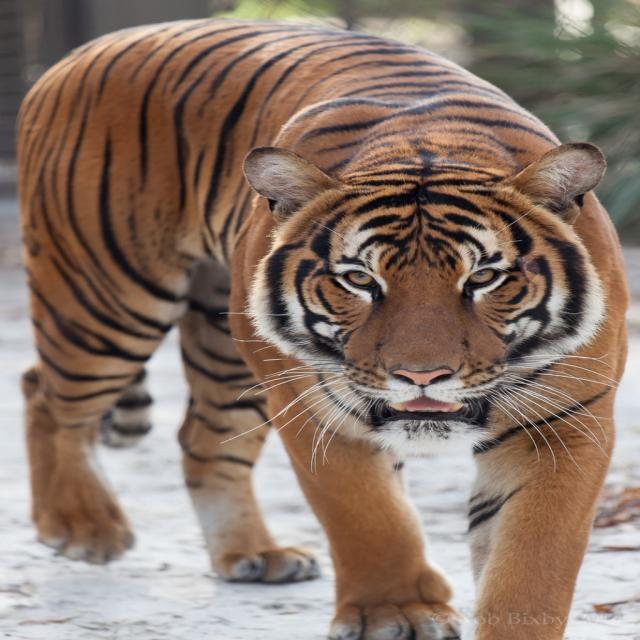Tiger: (19, 16, 629, 640)
